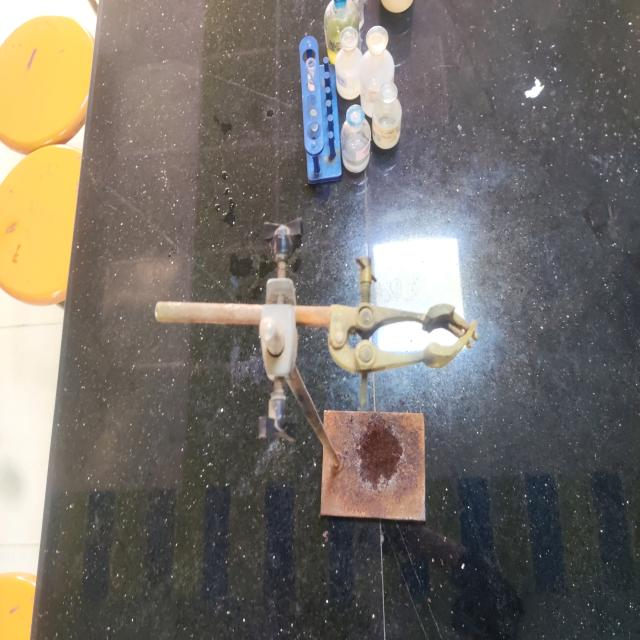Burette_Stands: (124, 181, 502, 587)
